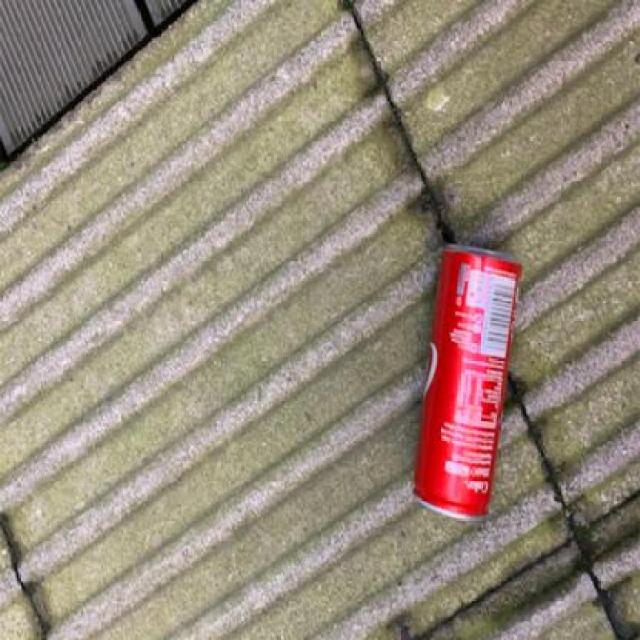Metal: (409, 243, 523, 522)
